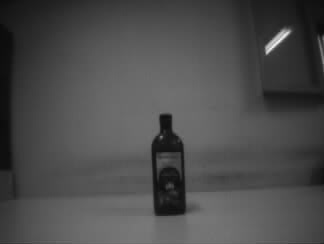Bottle: (150, 114, 186, 215)
